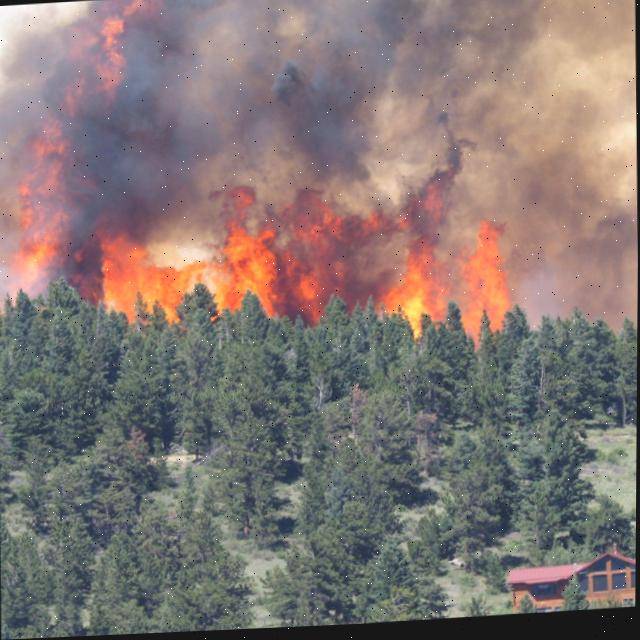fire: (68, 164, 562, 387)
smoke: (0, 0, 638, 328)
